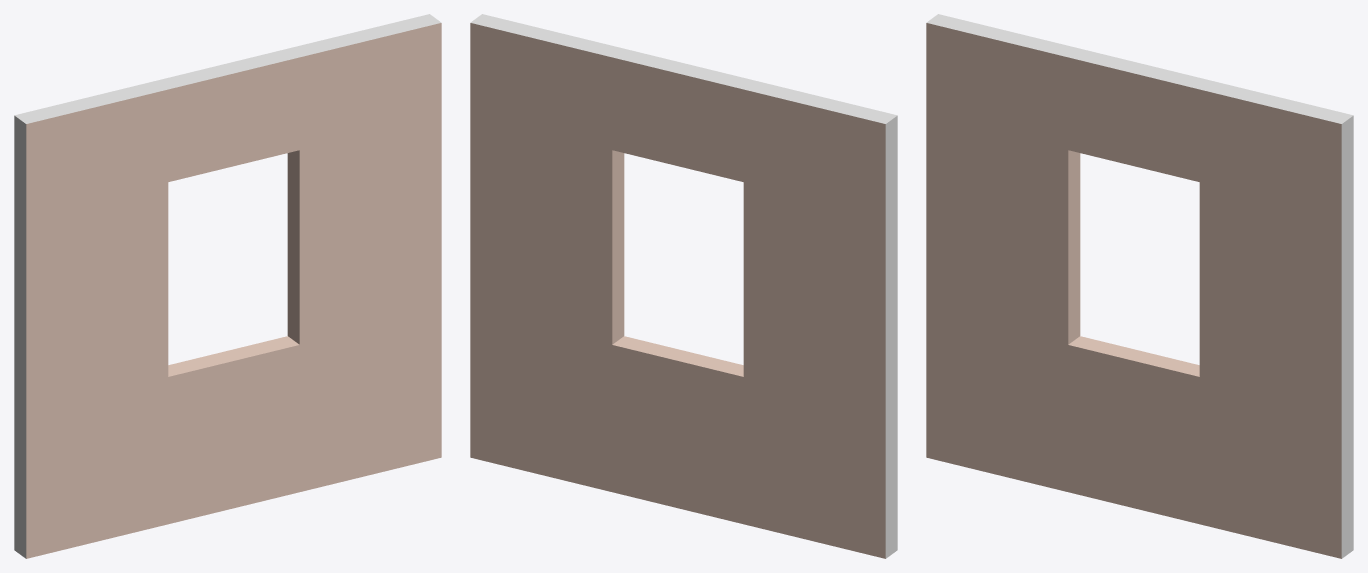
File: wall_080.fbx
The picture shows the model from 3 angles, left to right: view 1: azimuth 30°, elevation 25°; view 2: azimuth 150°, elevation 25°; view 3: azimuth 330°, elevation 25°; orthographic projection.
Visible parts, largest first — view 1: wall_080; view 2: wall_080; view 3: wall_080.
Part boxes in pixels (bbox=[...]): wall_080: bbox=[14, 14, 441, 558]; wall_080: bbox=[470, 14, 897, 558]; wall_080: bbox=[926, 14, 1353, 558].
Size of the model in its own units: 400 by 20 by 400.
